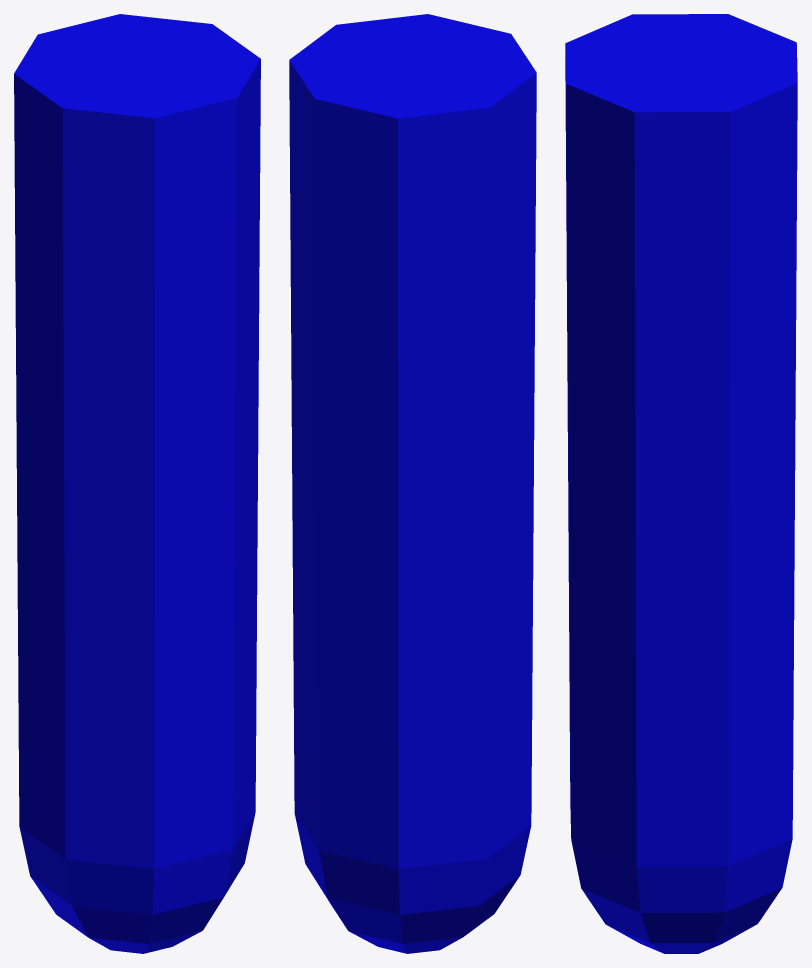
File: PotionTube_Colour.fbx
3 renders of one model, left to right at view 1: azimuth 30°, elevation 25°; view 2: azimuth 150°, elevation 25°; view 3: azimuth 270°, elevation 25°, orthographic.
Visible parts, largest first — view 1: PotionTubeLiquid; view 2: PotionTubeLiquid; view 3: PotionTubeLiquid.
Boxes of the visible parts, x1,y1,x2,y2 form: PotionTubeLiquid: (14, 14, 260, 953); PotionTubeLiquid: (289, 14, 536, 953); PotionTubeLiquid: (565, 14, 797, 953).
Bounding box in the file's own units: 4.74 × 19.81 × 4.74.
